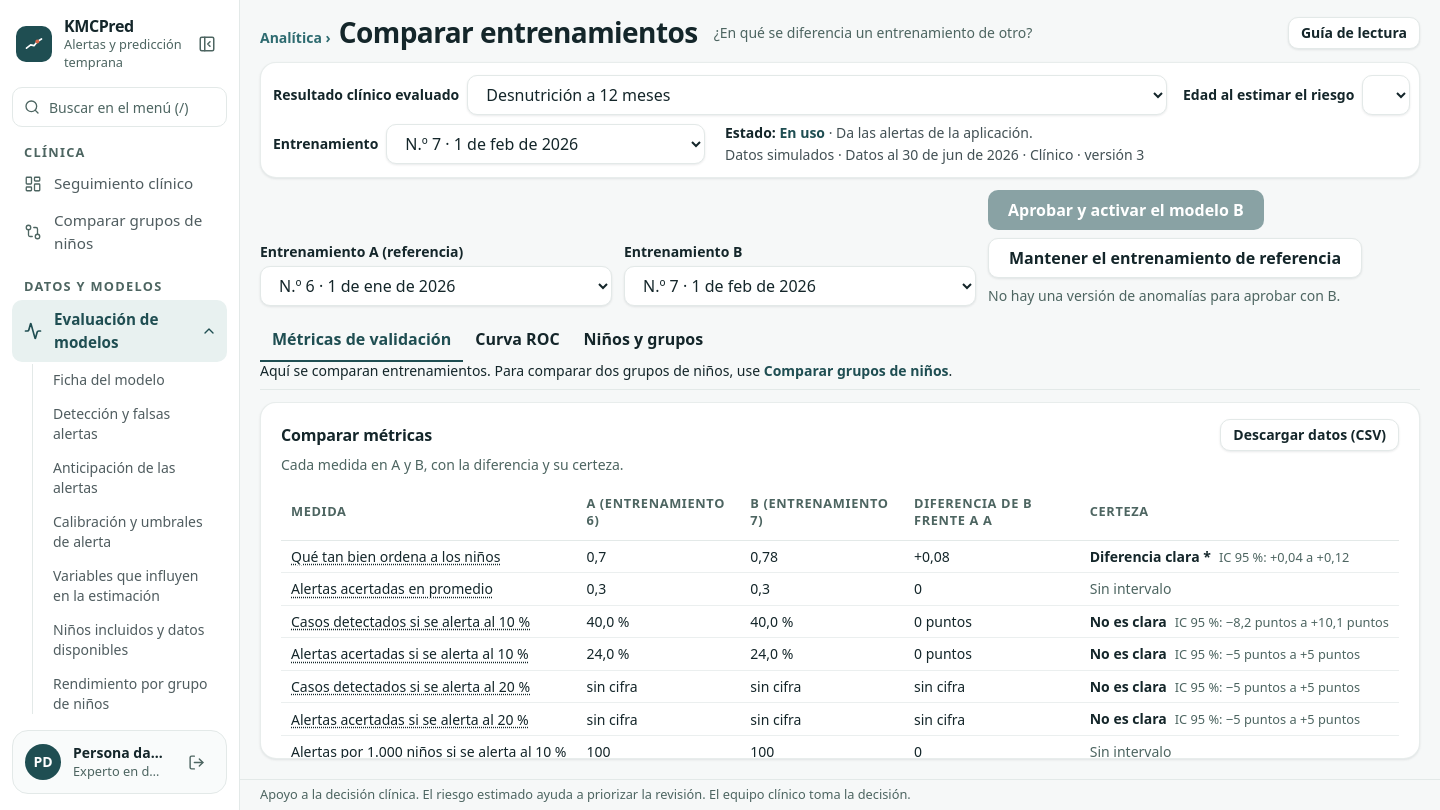
Test case: comparar entrenamientos: intervalos y Aprobar B › pide la comparación con réplicas y muestra la certeza, el n y el aviso de aproximación
The width and height of the screenshot is (1440, 810).
Expected: the text "Diferencia clara *" is shown, [1090,547,1211,566]
Expected: the text "No es clara" in the row of "−8,2 puntos" is shown, [1090,612,1167,631]
Step 1. Click the tab "Niños y grupos" → (643, 340), box [572,318,715,362]
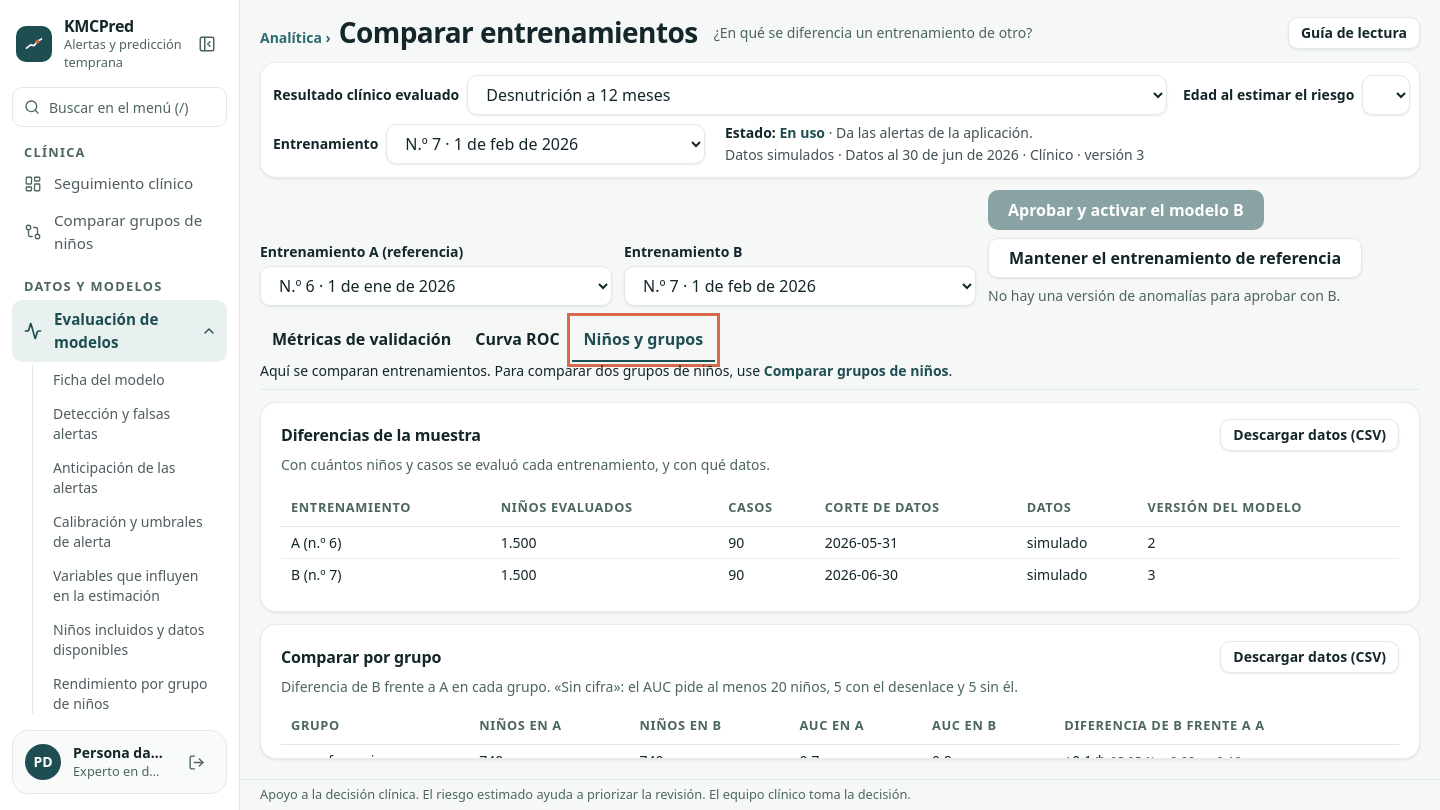
Expected: the text "el AUC pide al menos 20 niños, 5 con el desenlace y 5 sin él" is shown, [281,677,1018,696]
